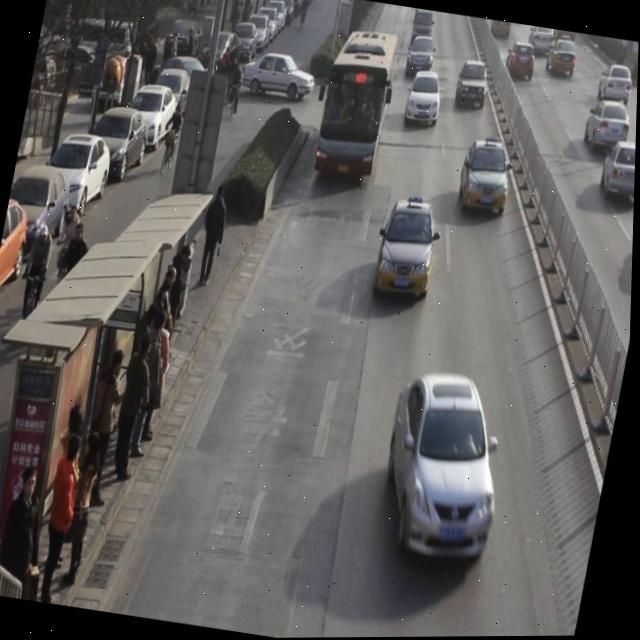car: (373, 365, 522, 567), (375, 193, 445, 301), (454, 133, 518, 218), (584, 97, 635, 155), (597, 138, 637, 208), (403, 68, 447, 129), (454, 59, 493, 111), (596, 62, 637, 107), (503, 39, 540, 85), (404, 33, 439, 80), (545, 35, 581, 79), (527, 27, 556, 56), (489, 21, 512, 42), (552, 30, 577, 40), (416, 9, 431, 20)
truck: (411, 9, 435, 47)
van: (310, 27, 399, 184)
